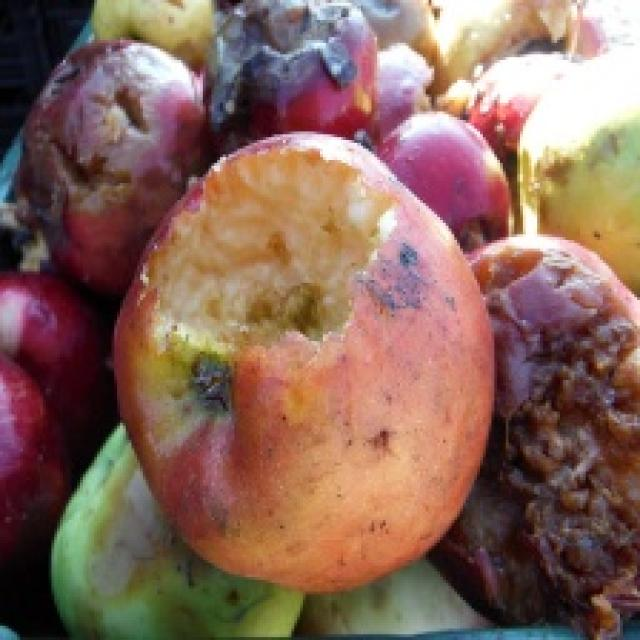rotten_apple: (135, 139, 477, 566), (489, 242, 640, 622), (26, 39, 174, 253), (208, 0, 377, 141)
